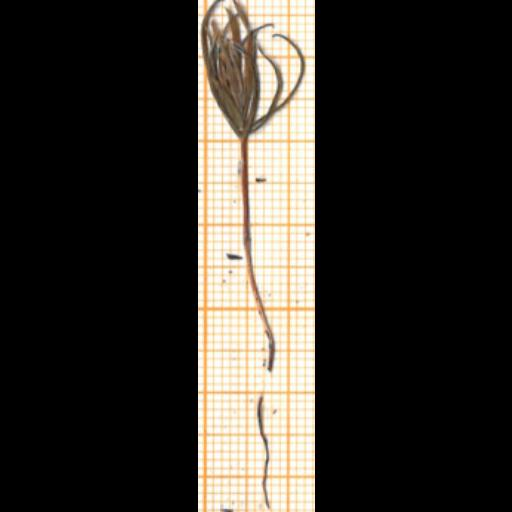flowerPinus: (201, 1, 304, 139)
rootPinus: (247, 257, 274, 371), (257, 395, 268, 507)
stemPinus: (241, 137, 250, 254)
